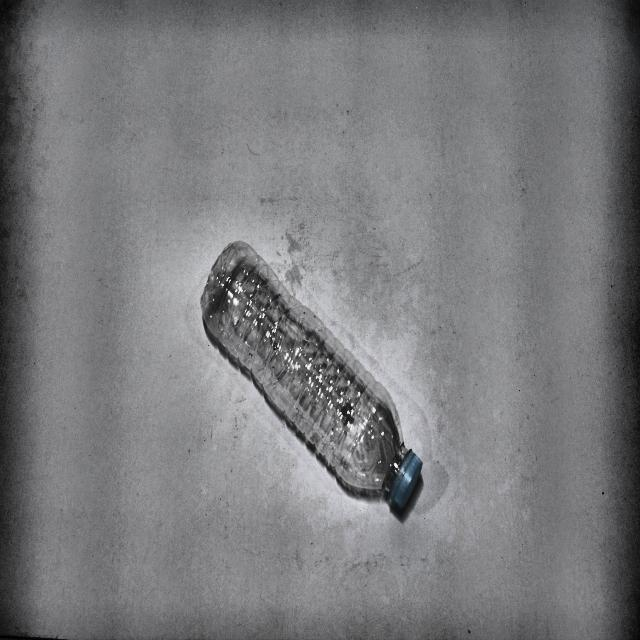Bottles: (196, 233, 427, 519)
